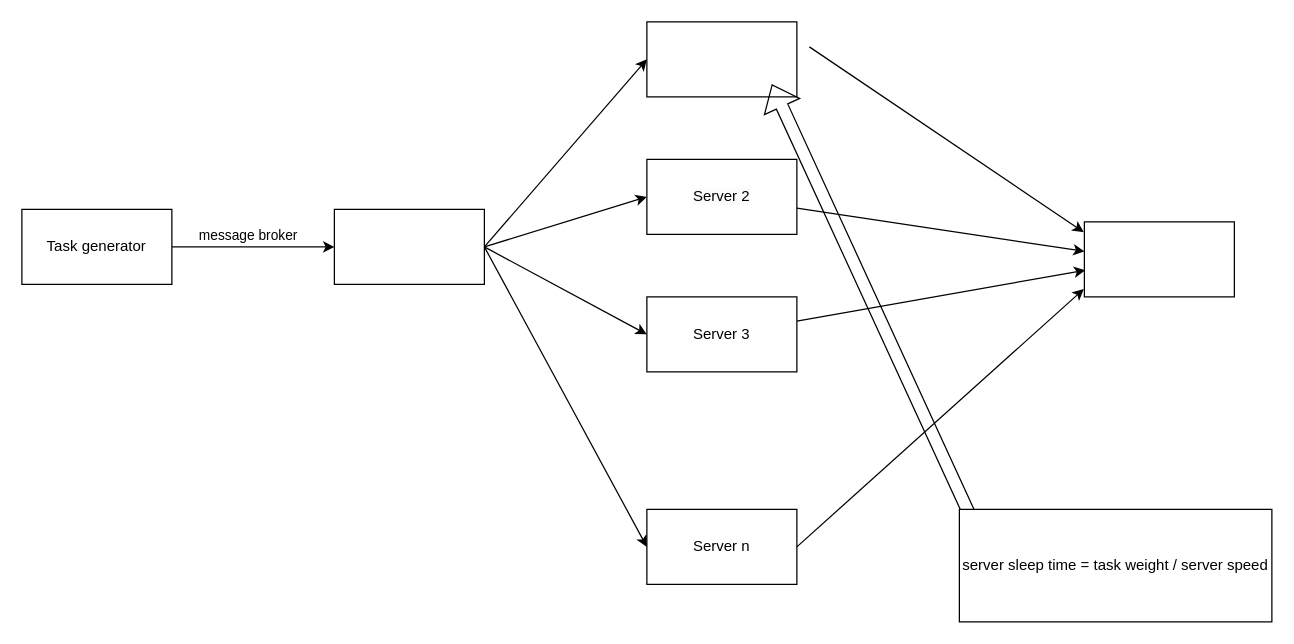
Image size: 1294x644. Some labels were removed from this diagram. The shapes that lost their labels are listed below. From the top down, each one's box as (x1, y1, x2, y2) in pixels, then its label:
(646, 21, 797, 97): Server 1
(333, 208, 484, 284): Scheduler
(1083, 221, 1234, 297): Cassandra
